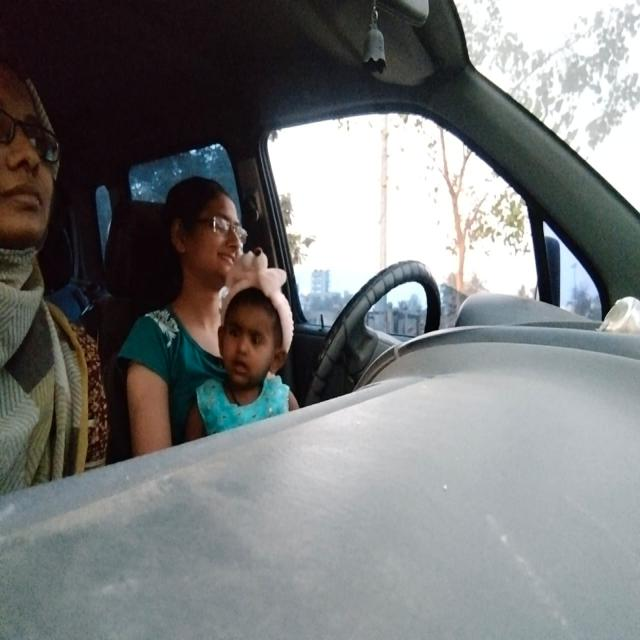child: (214, 250, 298, 405)
person: (1, 55, 60, 305), (168, 158, 246, 290)
